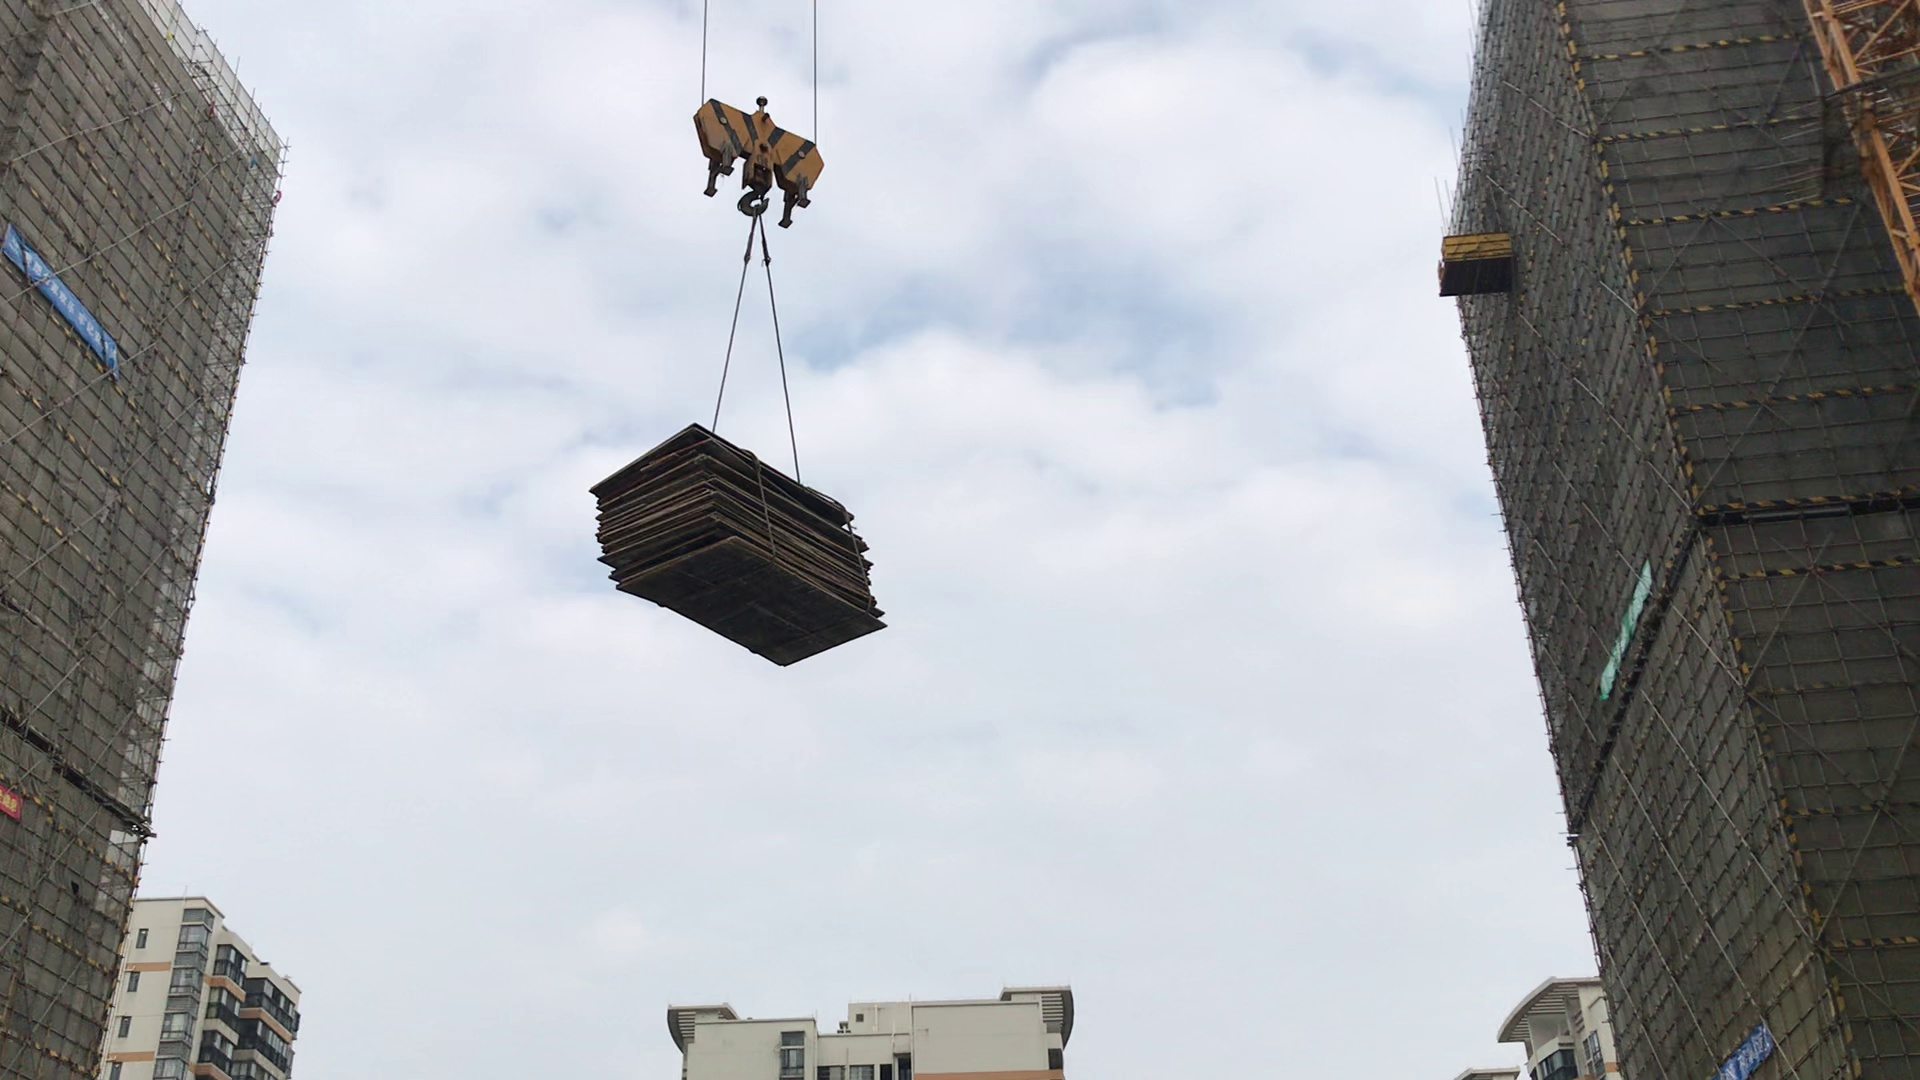board: (582, 419, 909, 684)
hook: (688, 82, 829, 240)
slogan: (1, 216, 127, 378), (1585, 554, 1669, 708), (1696, 1018, 1788, 1080)
